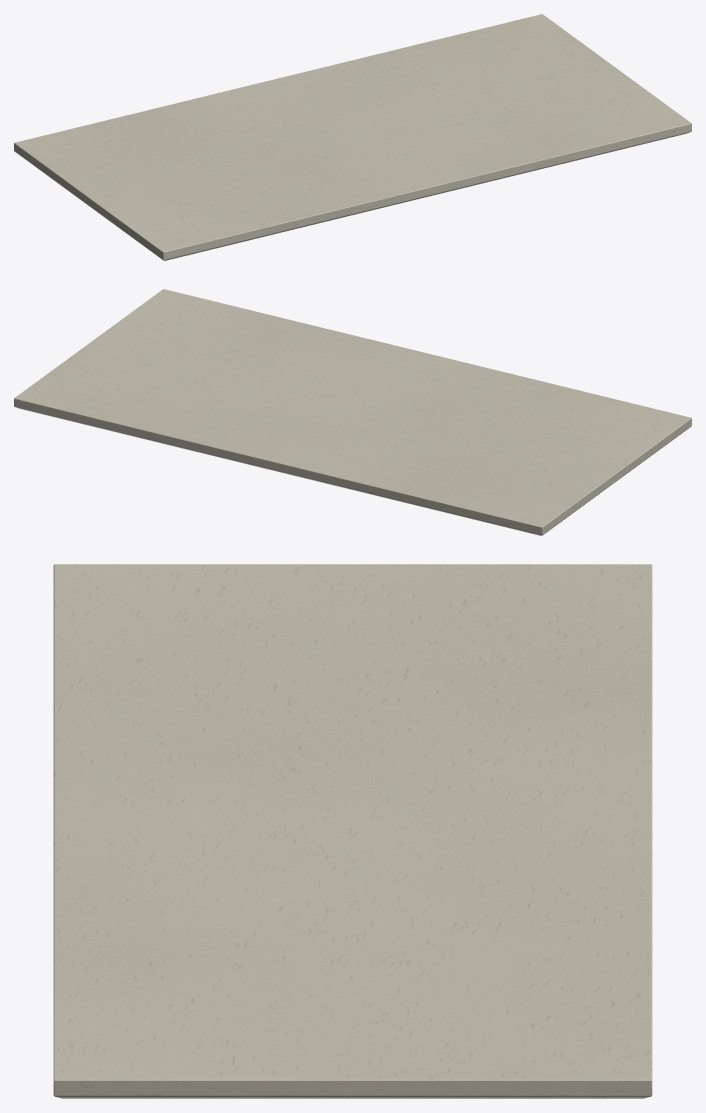
Rendered from ceiling_board_122.gltf.
3 views of the same model, one above another, from view 1: azimuth 30°, elevation 25°; view 2: azimuth 150°, elevation 25°; view 3: azimuth 270°, elevation 25° (orthographic). The views are drawn at different scales.
Parts seen in each view (by area): view 1: ceiling_board_122.001; view 2: ceiling_board_122.001; view 3: ceiling_board_122.001.
Boxes of the visible parts, bbox=[...] form: ceiling_board_122.001: bbox=[14, 14, 691, 260]; ceiling_board_122.001: bbox=[14, 289, 691, 535]; ceiling_board_122.001: bbox=[53, 564, 652, 1098].
Bounding box in the file's own units: 1.2 × 0.024 × 0.587.
1 material, 1 textured.
